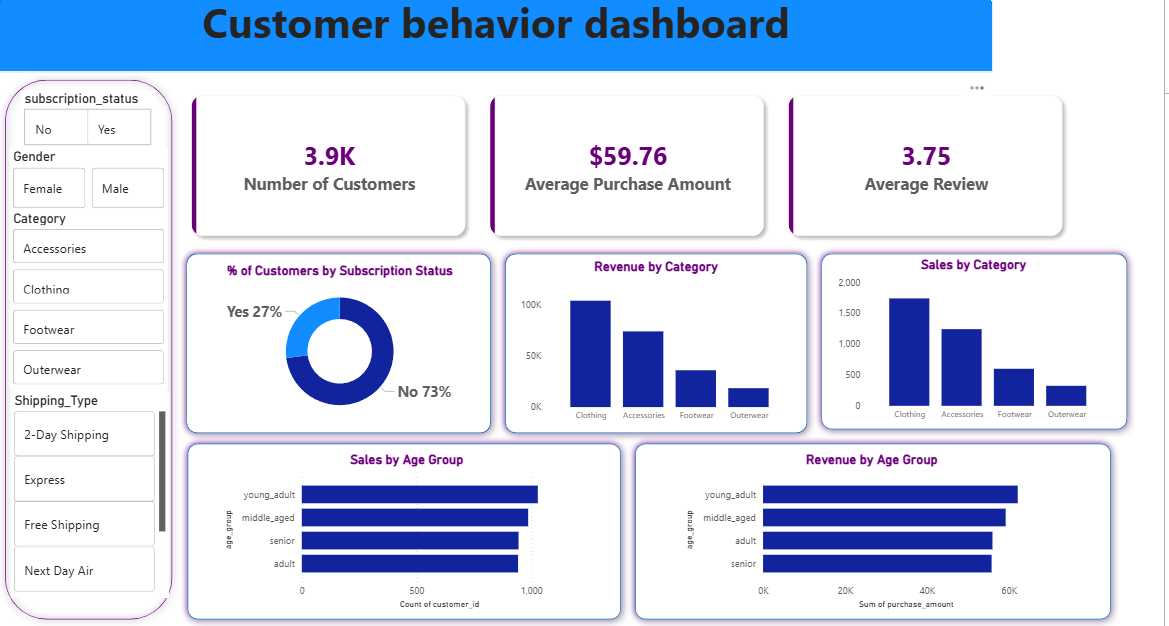

This screenshot's page, from the dashboard's own definition file:
{"tool":"powerbi","page":{"name":"Page 1","canvas":[1500,820],"ordinal":0},"visuals":[{"type":"cardVisual","fields":{"Data":["public customer.Number of Customers","public customer.Average Purchase Amount","public customer.Average Review"]},"box":[220.3,107.7,1178.7,239.6],"z":0},{"type":"shape","box":[0,0,1280.3,107],"z":1000},{"type":"textbox","box":[50.8,0,1178.7,107],"z":2000},{"type":"shape","box":[233.2,331.3,410.1,249.3],"z":3000},{"type":"donutChart","title":"% of Customers by Subscription Status","fields":{"Category":["public customer.subscription_status"],"Y":["CountNonNull(public customer.customer_id)"]},"box":[257.3,352.2,365,209],"z":4000},{"type":"shape","box":[643.2,331.3,406.8,249.3],"z":5000},{"type":"shape","box":[1050.1,331.3,411.7,244.4],"z":6000},{"type":"clusteredColumnChart","title":"Revenue by Category ","fields":{"Category":["public customer.category"],"Y":["Sum(public customer.purchase_amount)"]},"box":[667.3,347.3,358.6,218.7],"z":7000},{"type":"clusteredColumnChart","title":"Sales by Category","fields":{"Category":["public customer.category"],"Y":["CountNonNull(public customer.customer_id)"]},"box":[1075.8,344.1,358.6,220.3],"z":8000},{"type":"shape","box":[0,107.7,233.2,712.4],"z":9000},{"type":"advancedSlicerVisual","fields":{"Values":["public customer.subscription_status"]},"box":[28.9,130.3,173.7,75.6],"z":10000},{"type":"advancedSlicerVisual","title":"Gender","fields":{"Values":["public customer.gender"]},"box":[14.5,205.8,204.2,82],"z":11000},{"type":"advancedSlicerVisual","title":"Category","fields":{"Values":["public customer.category"]},"box":[14.5,284.6,204.2,230],"z":12000},{"type":"advancedSlicerVisual","title":"Shipping_Type","fields":{"Values":["public customer.shipping_type"]},"box":[16.1,519.4,204.2,263.7],"z":13000},{"type":"shape","box":[234.8,575.7,575.7,244.4],"z":15000},{"type":"shape","box":[810.5,575.7,630.4,244.4],"z":16000},{"type":"clusteredBarChart","title":"Sales by Age Group","fields":{"Y":["CountNonNull(public customer.customer_id)"],"Category":["public customer.age_group"]},"box":[286.2,595,479.2,207.4],"z":16001},{"type":"clusteredBarChart","title":"Revenue by Age Group","fields":{"Y":["Sum(public customer.purchase_amount)"],"Category":["public customer.age_group"]},"box":[879.6,595,488.9,207.4],"z":16002}]}

Visuals, with their boxes in screenshot pixels (x1, y1, x2, y2), scaled from the page's 1500x820 canvas onto the 1169x626 screenshot:
cardVisual - public customer.Number of Customers x public customer.Average Purchase Amount: crop(172, 82, 1090, 265)
shape: crop(0, 0, 998, 82)
textbox: crop(40, 0, 958, 82)
shape: crop(182, 253, 501, 443)
"% of Customers by Subscription Status" donutChart: crop(201, 269, 485, 428)
shape: crop(501, 253, 818, 443)
shape: crop(818, 253, 1139, 439)
"Revenue by Category " clusteredColumnChart: crop(520, 265, 800, 432)
"Sales by Category" clusteredColumnChart: crop(838, 263, 1118, 431)
shape: crop(0, 82, 182, 625)
advancedSlicerVisual - public customer.subscription_status: crop(23, 99, 158, 157)
"Gender" advancedSlicerVisual: crop(11, 157, 170, 220)
"Category" advancedSlicerVisual: crop(11, 217, 170, 393)
"Shipping_Type" advancedSlicerVisual: crop(13, 397, 172, 598)
shape: crop(183, 439, 632, 625)
shape: crop(632, 439, 1123, 625)
"Sales by Age Group" clusteredBarChart: crop(223, 454, 597, 613)
"Revenue by Age Group" clusteredBarChart: crop(686, 454, 1067, 613)
